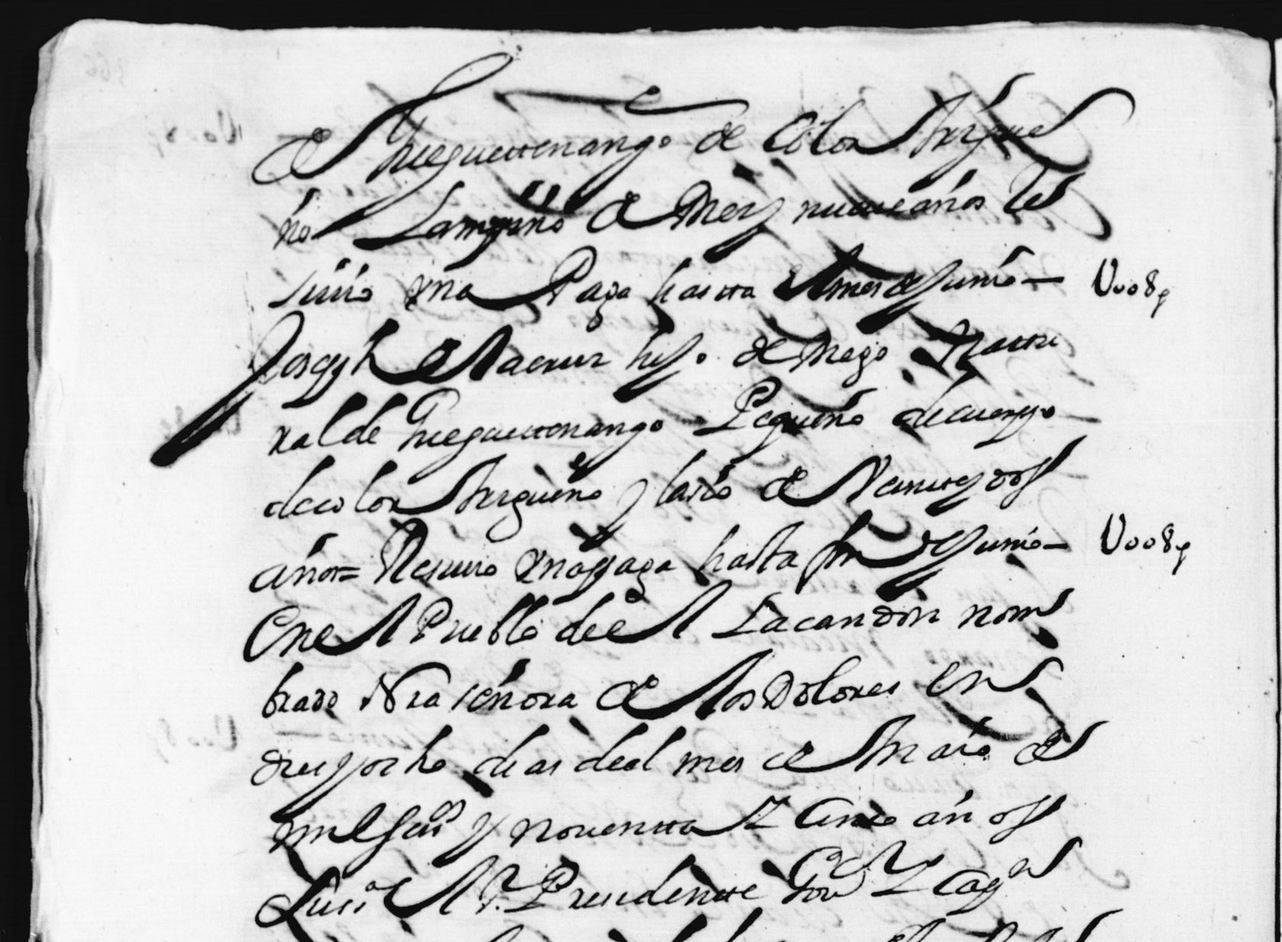lacandon: (711, 592, 939, 638)
